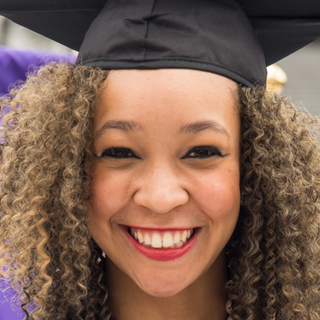eye: (177, 140, 226, 165), (94, 141, 143, 166)
